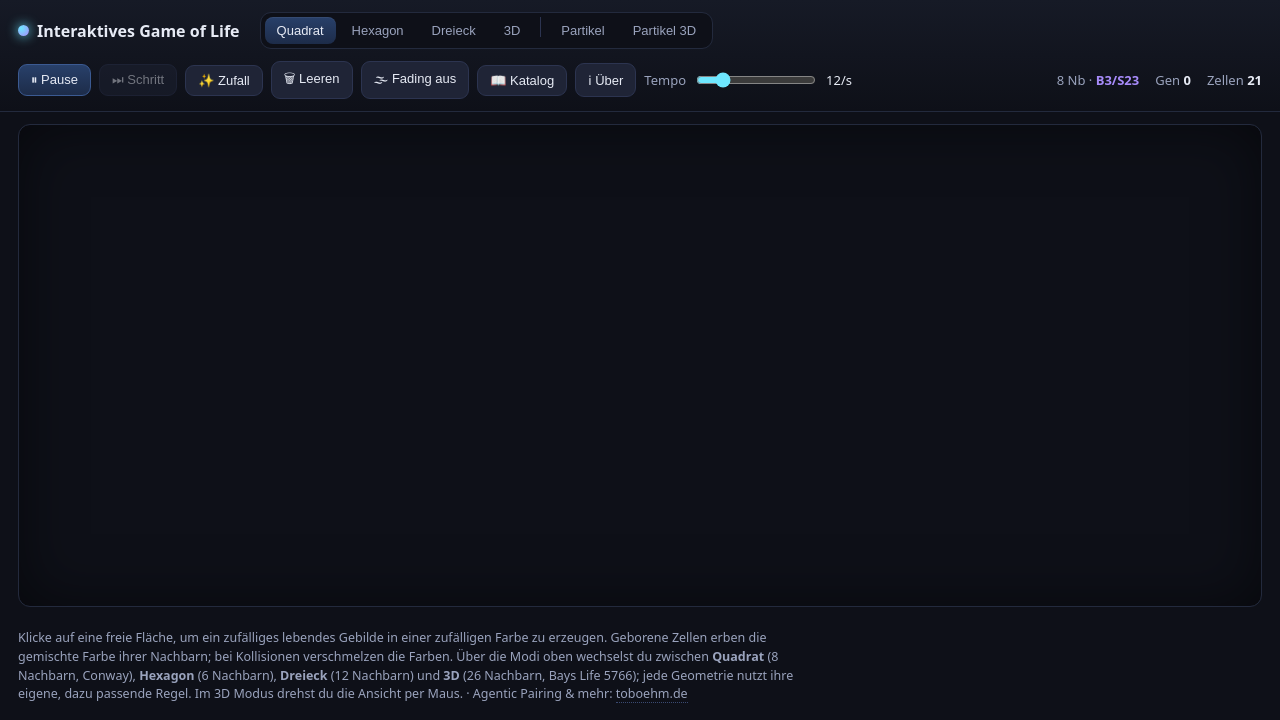
Particle Life mode › shows the universe catalog and loads a preset
The image size is (1280, 720).
Click the button "Partikel" at (583, 30), box [549,17,617,44]
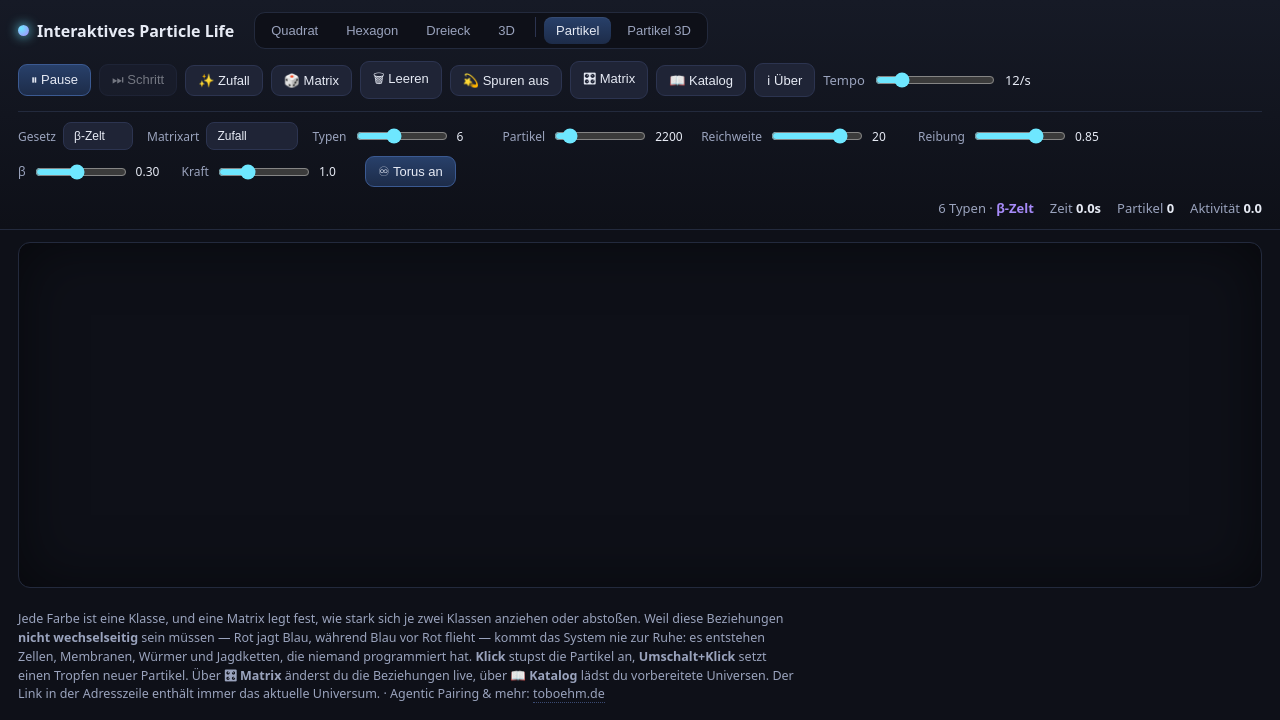
Click the button "📖 Katalog" at (701, 80), box [656,64,746,96]
(page scrolled)
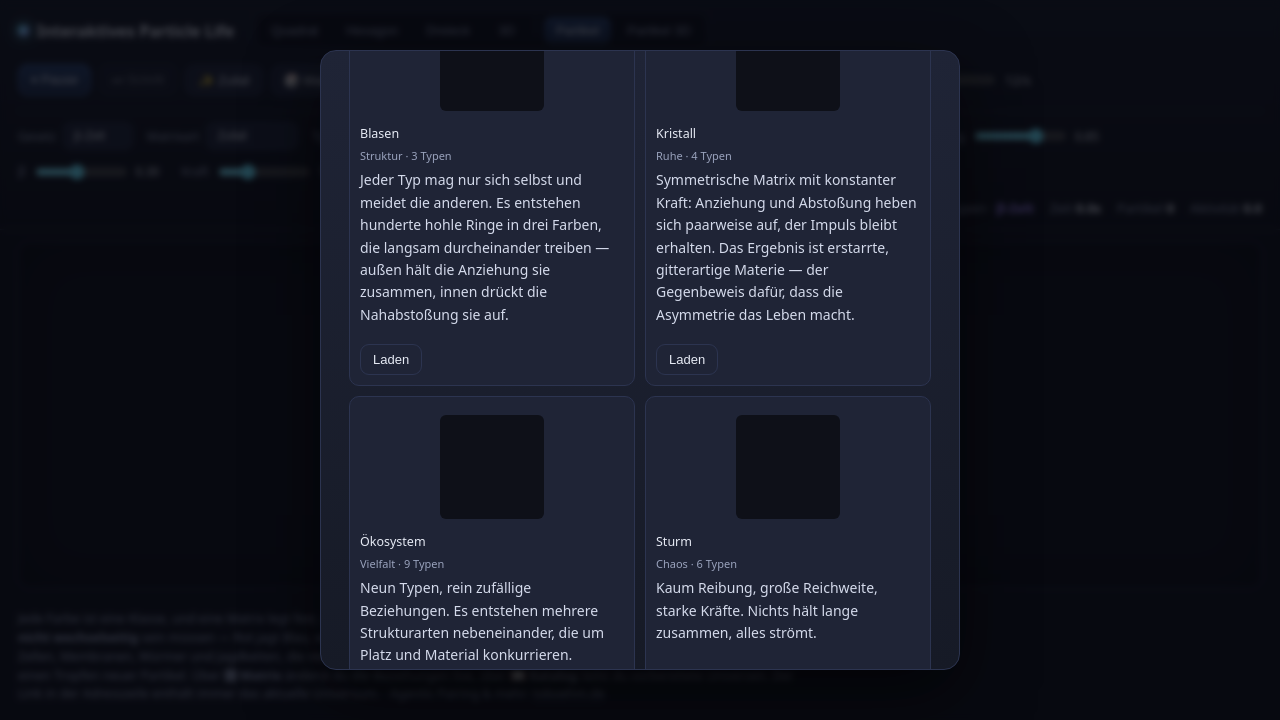
Now the text "Kristall" is shown, box [656,126,696,142]
Click the button "Laden" below "Kristall" at (687, 360), box [656,344,718,375]
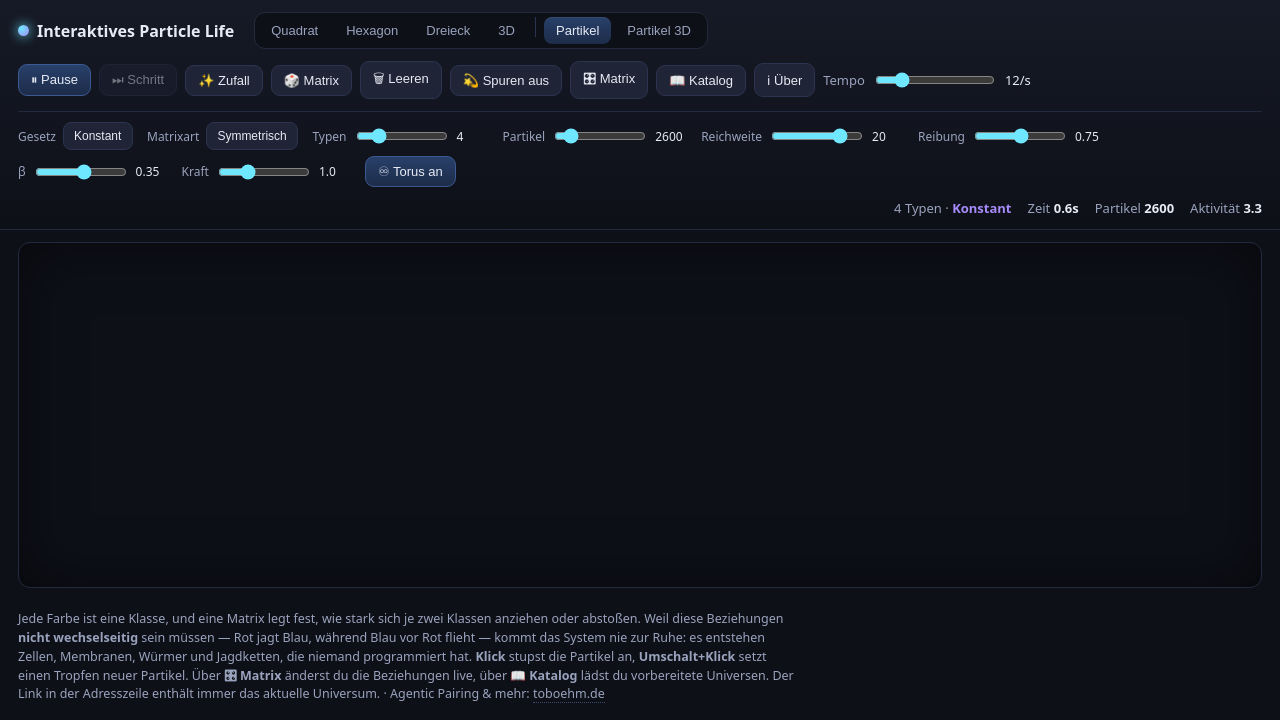
Now the dialog is gone
Now the element with class "rule" shows "Konstant", box [952,199,1012,217]
Now the element with class "rule" shows "4 Typen", box [894,199,1012,217]
